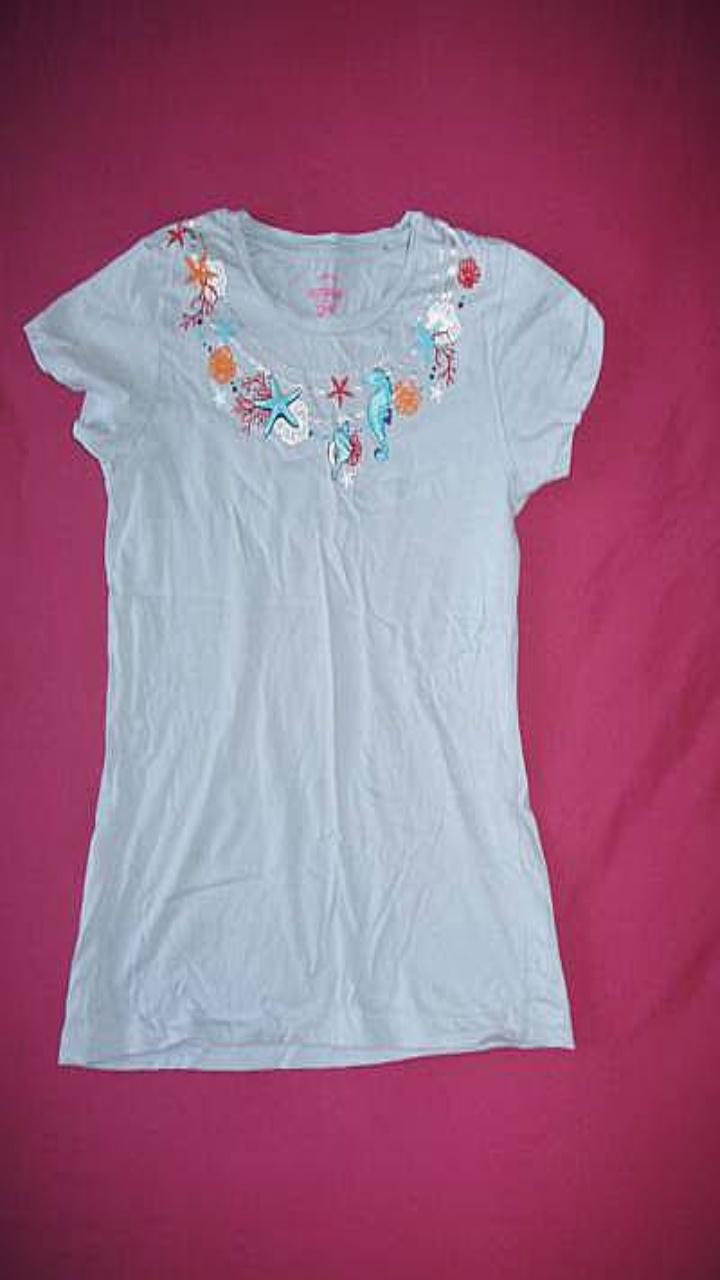T-Shirt: (24, 209, 603, 1069)
